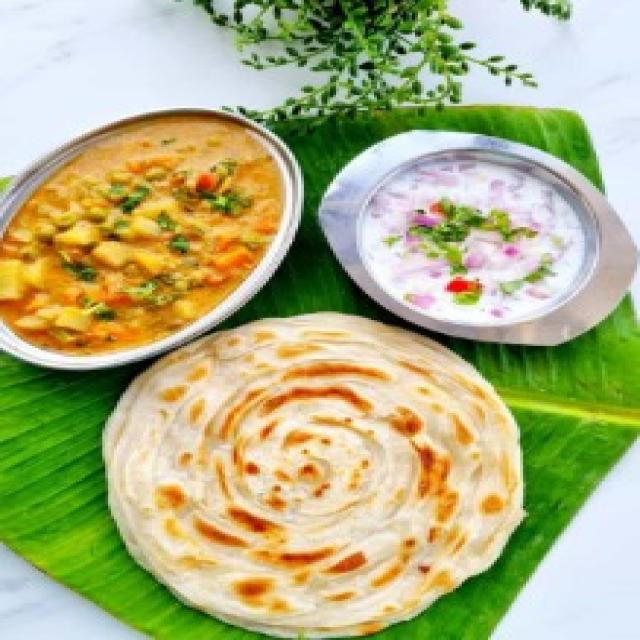CURD: (359, 154, 588, 323)
CURRY: (0, 118, 286, 361)
PAROTTA: (104, 309, 528, 638)
